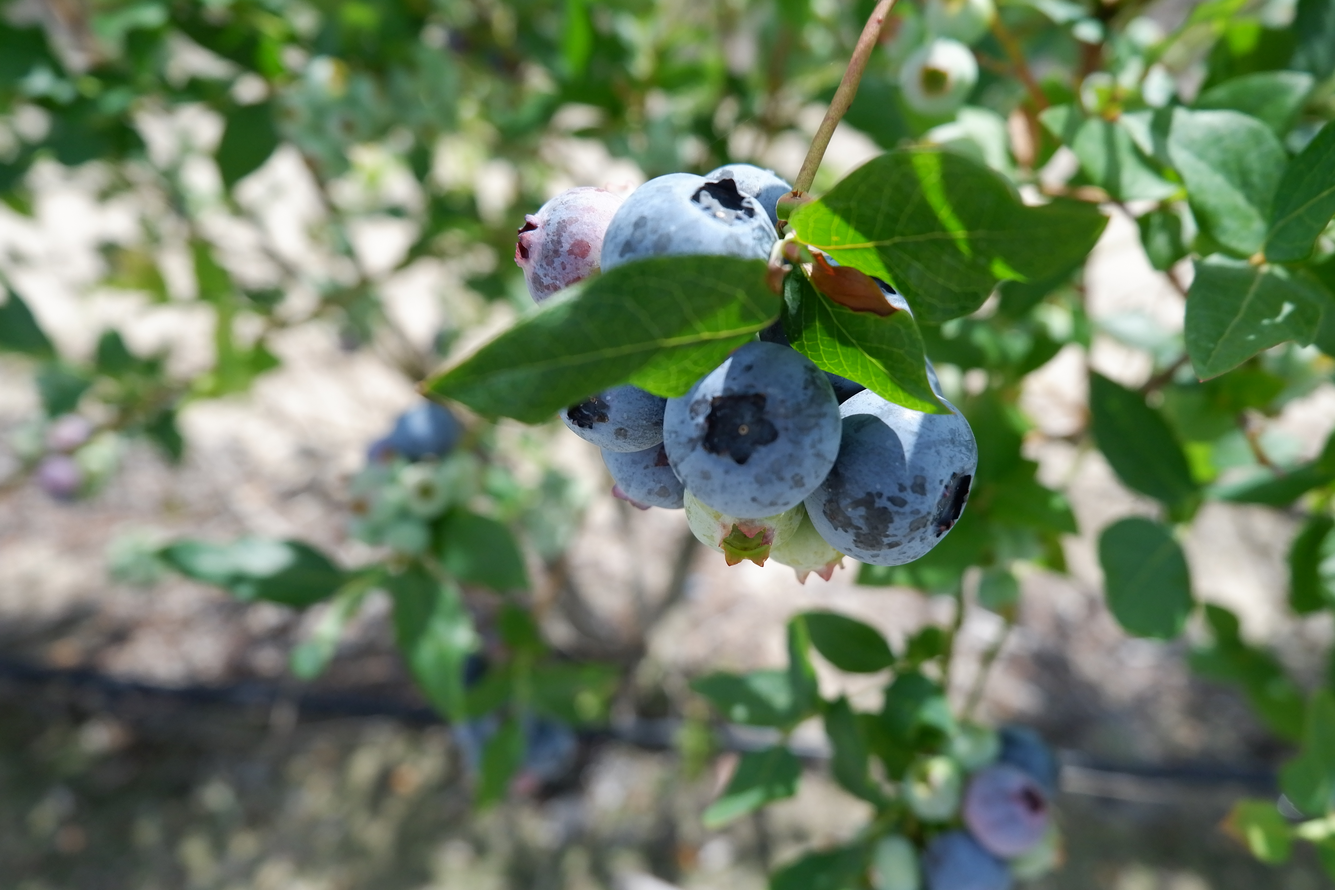Immature: (517, 188, 623, 300), (684, 489, 802, 563), (771, 504, 844, 576)
Mature: (667, 344, 840, 517), (811, 390, 977, 559), (606, 175, 777, 266), (703, 163, 791, 237), (567, 387, 666, 451), (602, 440, 682, 507)
